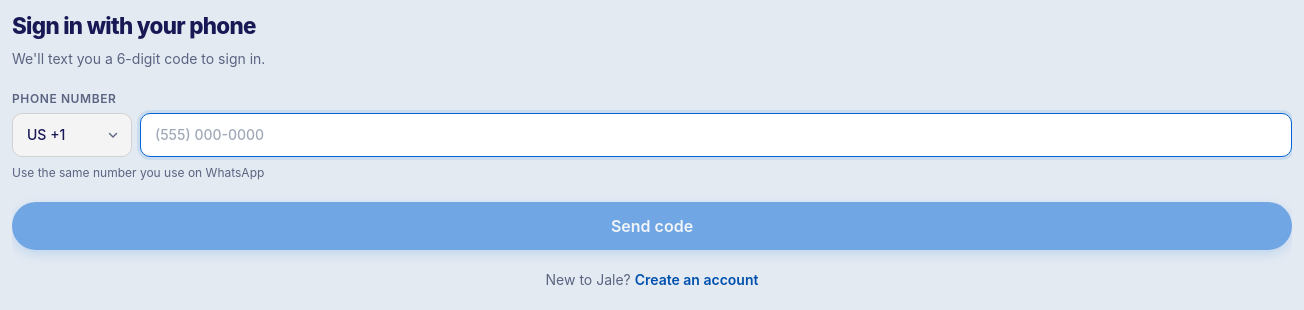
Test: WorkerAuthForm — Enter submits the step it is pressed in › sends the code from the phone field, exactly once
Type "2105550134" into the field. click: [716, 135]
box: [140,113,1292,157]
Then press Enter
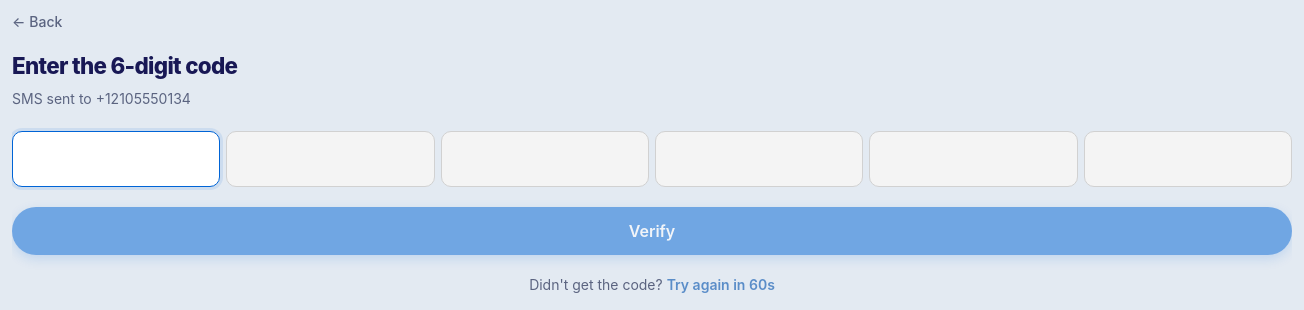
expect the heading "Enter the 6-digit code" is shown: met, box [12,52,237,79]
